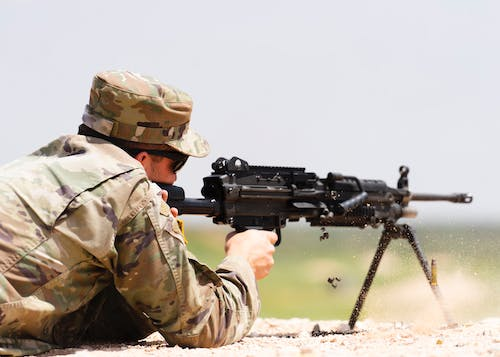gun: (150, 163, 476, 332)
